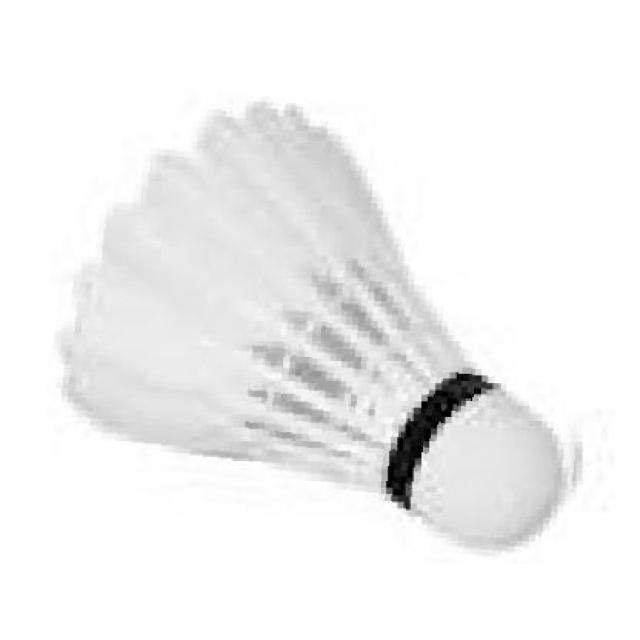Shuttlecock: (43, 91, 599, 552)
